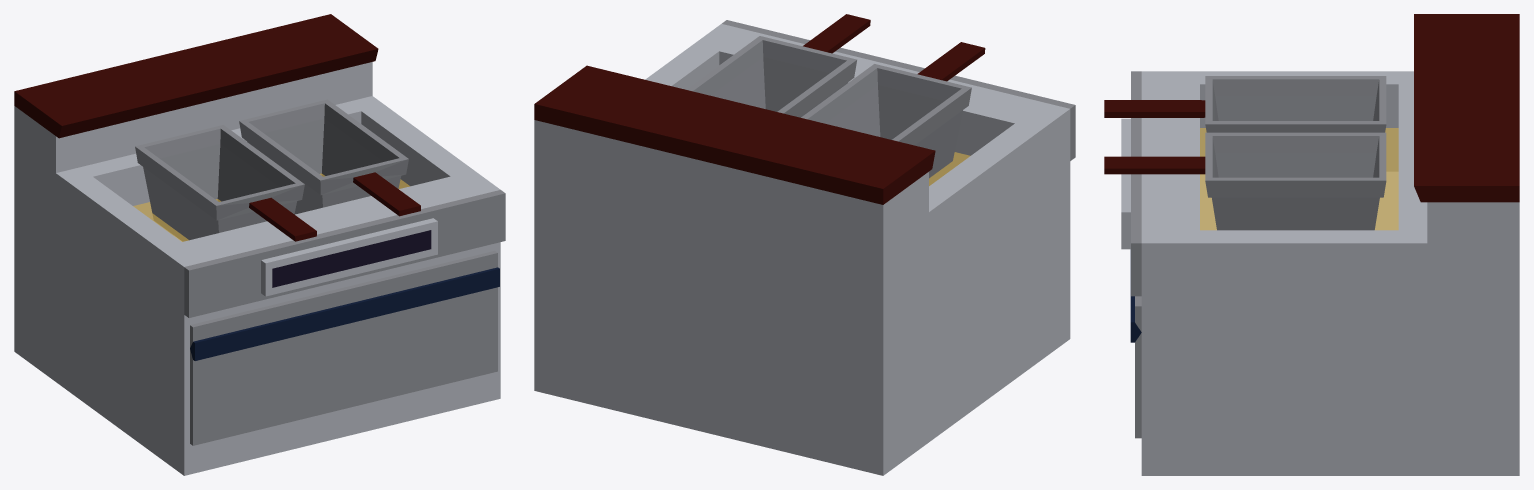
The model's file is fryer.fbx.
3 views of the same model, side by side, from view 1: azimuth 30°, elevation 25°; view 2: azimuth 150°, elevation 25°; view 3: azimuth 270°, elevation 25° (orthographic). The views are drawn at different scales.
Visible parts, largest first — view 1: fryer, frydropper.001, frydropper; view 2: fryer, frydropper.001, frydropper; view 3: fryer, frydropper, frydropper.001.
Part boxes in pixels (x1,y1,x2,y2): fryer: (14, 14, 505, 475); frydropper.001: (135, 125, 316, 241); frydropper: (239, 99, 420, 216); fryer: (534, 20, 1075, 475); frydropper.001: (801, 42, 985, 184); frydropper: (686, 14, 870, 117); fryer: (1121, 14, 1519, 475); frydropper: (1104, 132, 1386, 230); frydropper.001: (1104, 76, 1386, 132).
Bounding box in the file's own units: 160 × 125 × 163.
